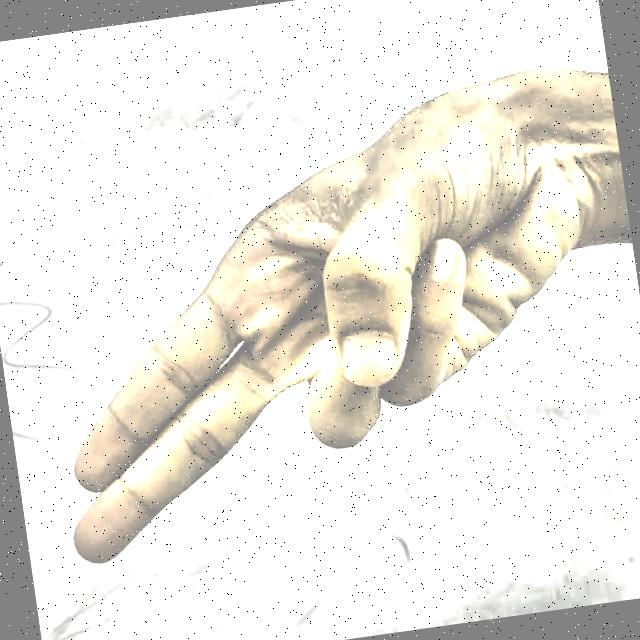Ha: (0, 43, 640, 639)
